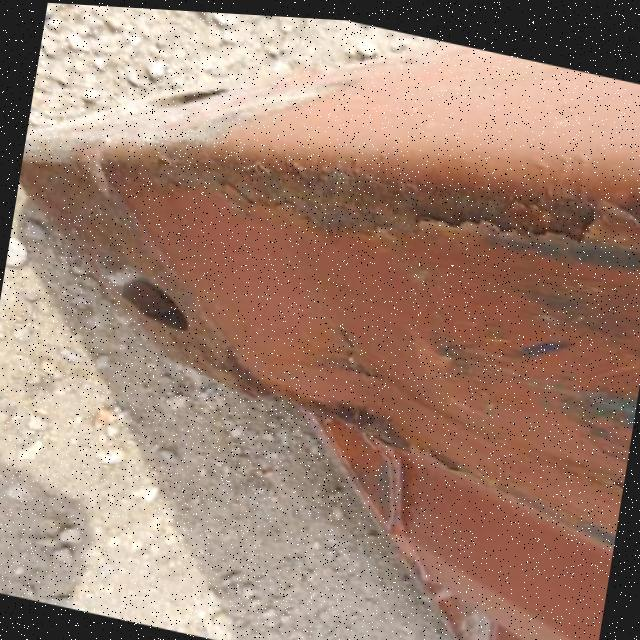rust: (134, 94, 607, 293), (282, 382, 476, 471), (503, 210, 640, 275), (485, 476, 621, 541), (214, 340, 283, 403)
